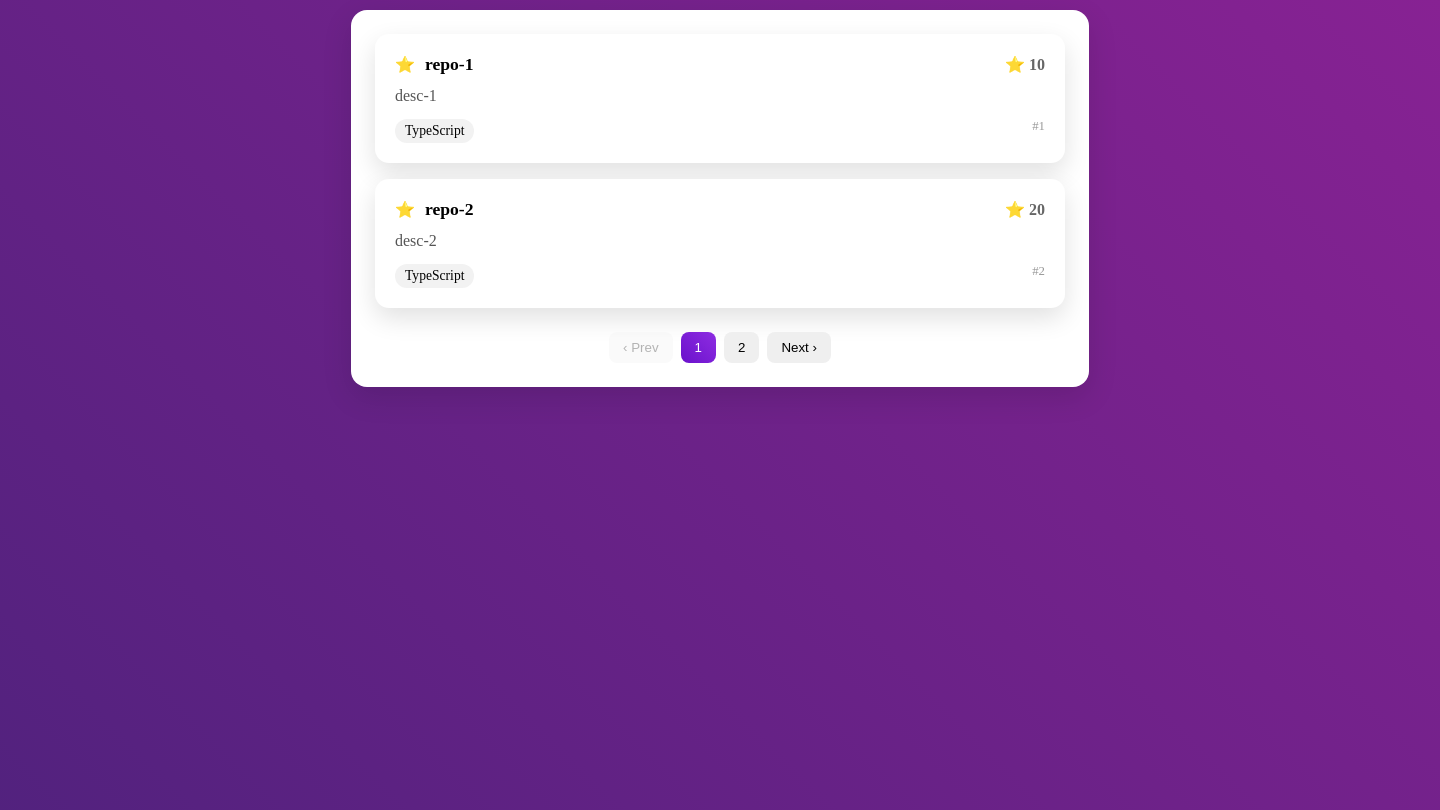
Test: RepoList › pagination limits items per page
This screenshot has width=1440, height=810.
Expected: the heading "repo-1" is shown, left=425, top=54, right=474, bottom=74
Expected: the heading "repo-2" is shown, left=425, top=199, right=474, bottom=219
Note: go to page 2 (select the page button)
Step 1. Click the button "2" → (742, 348), box left=724, top=332, right=759, bottom=363
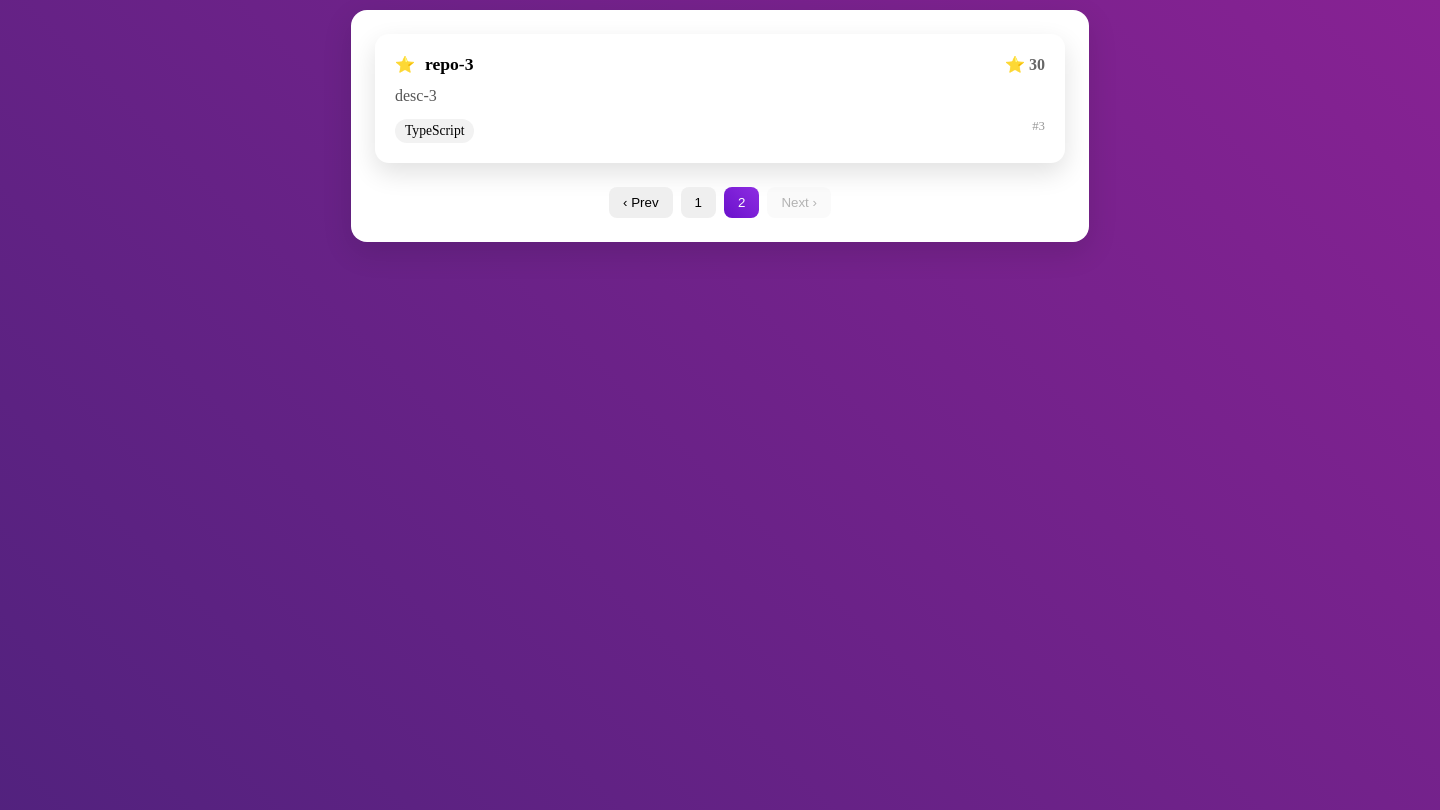
Expected: the heading "repo-3" is shown, left=425, top=54, right=474, bottom=74
